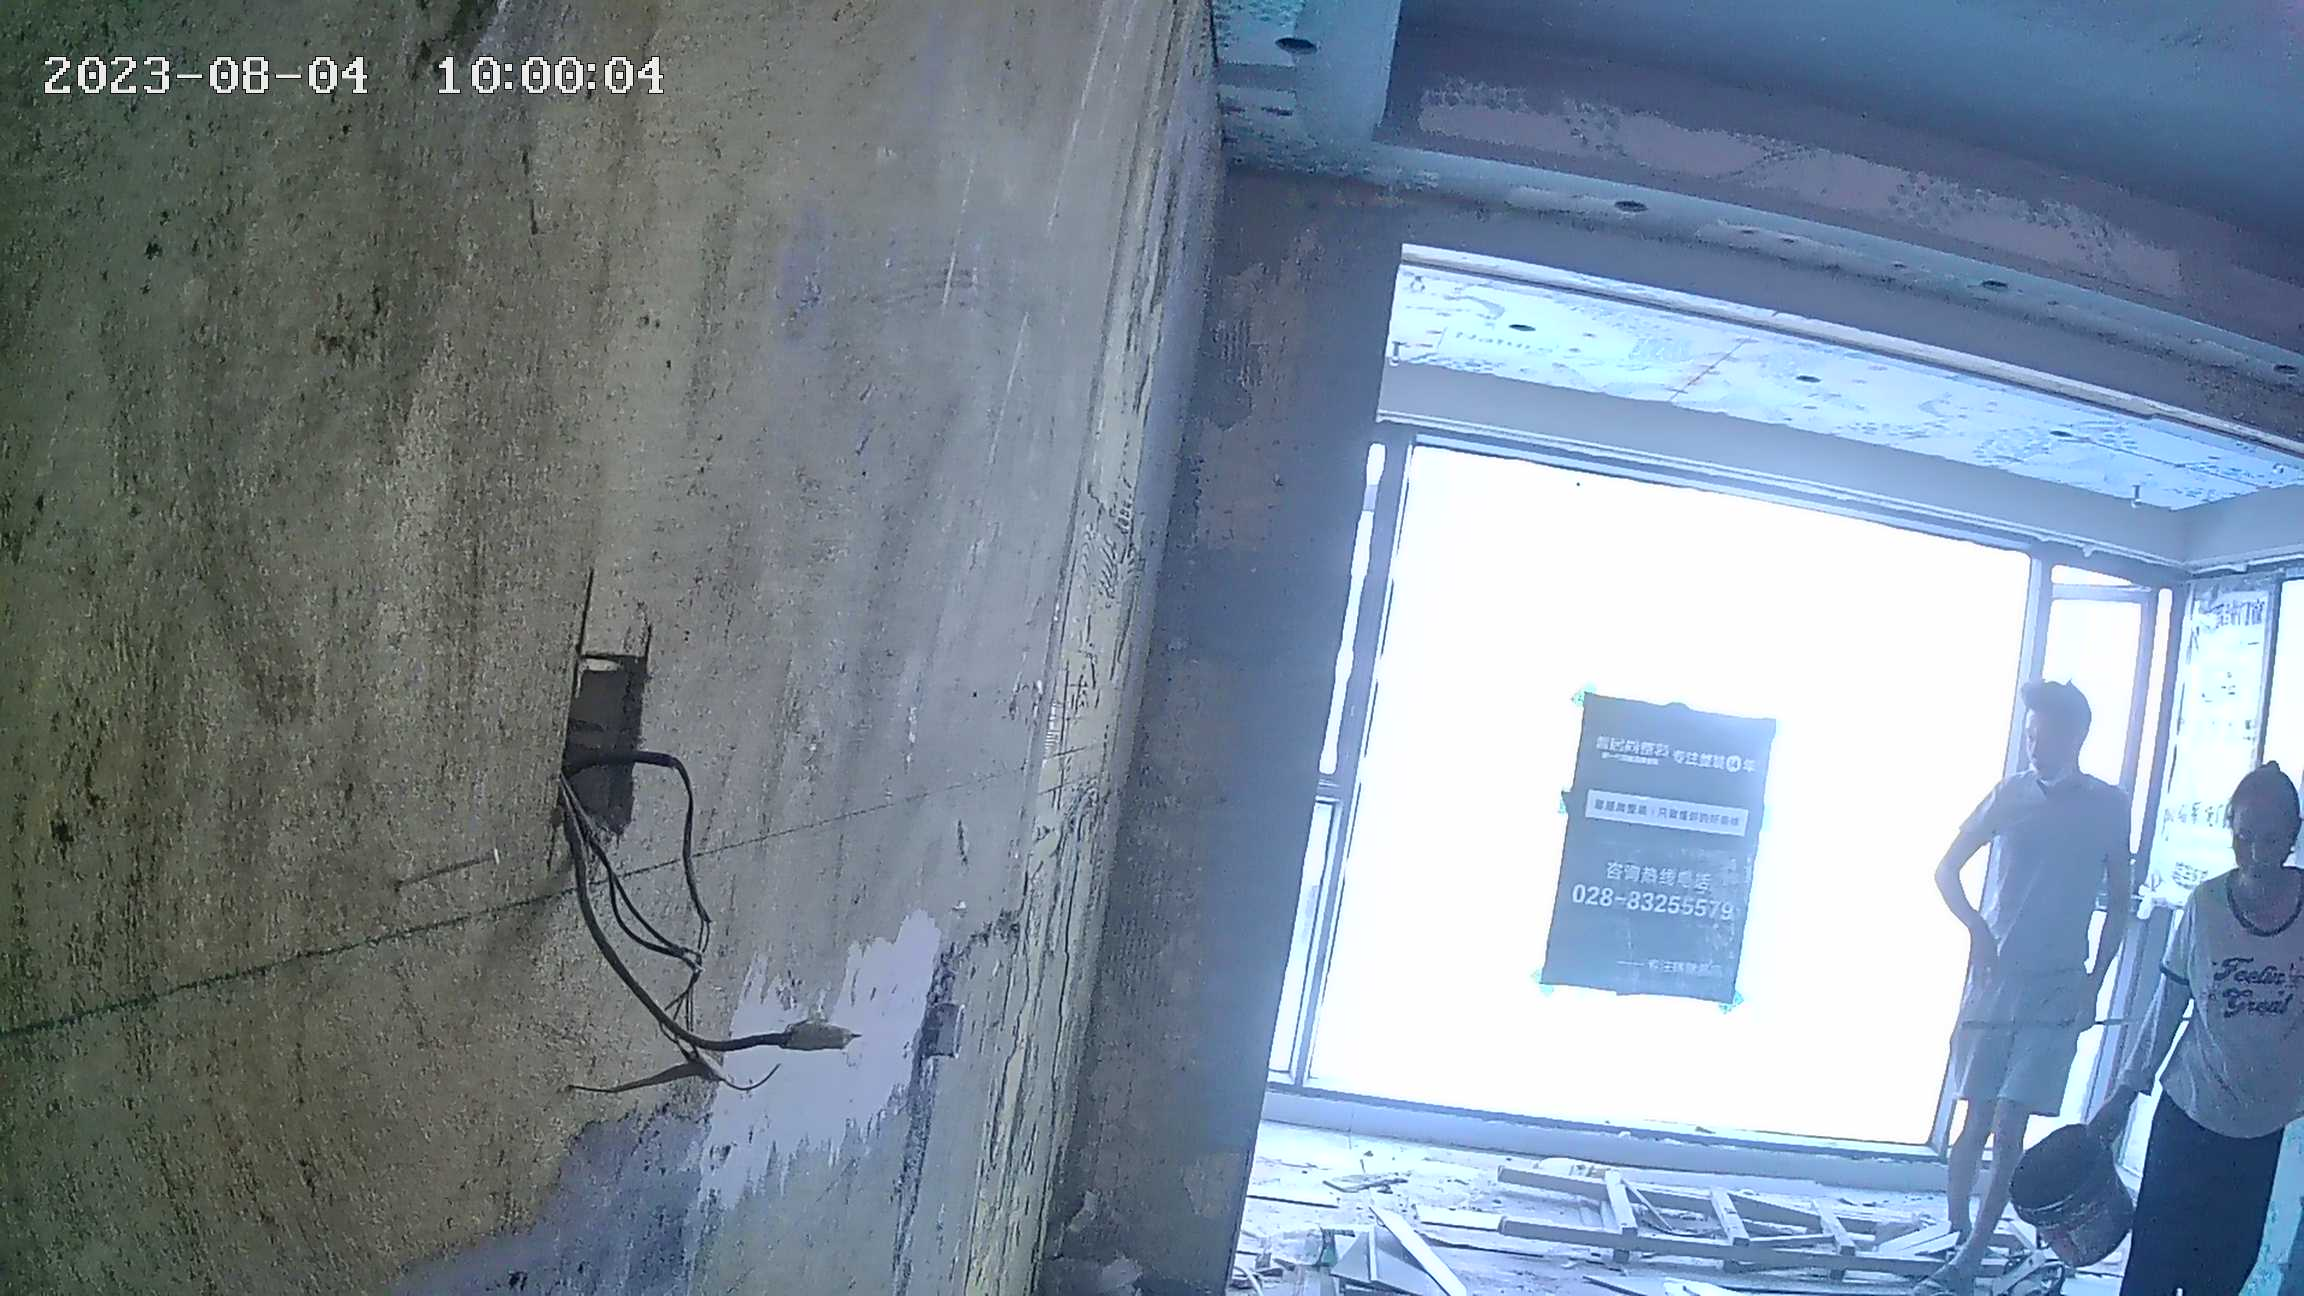people: (1928, 669, 2135, 1280), (2098, 763, 2303, 1296)
window: (1362, 415, 2102, 1180)
